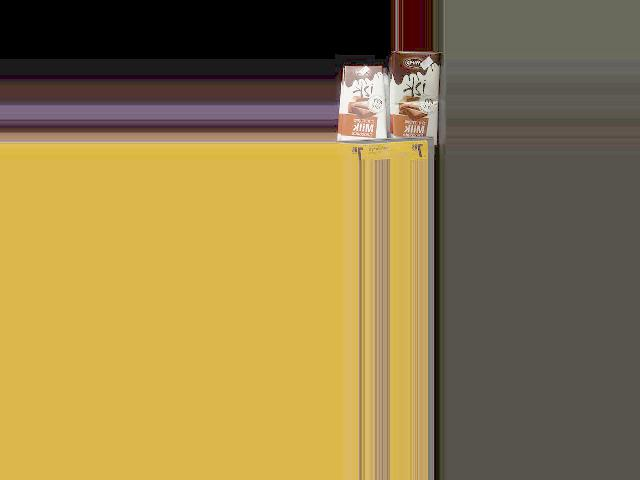chocolate: (333, 63, 386, 150)
